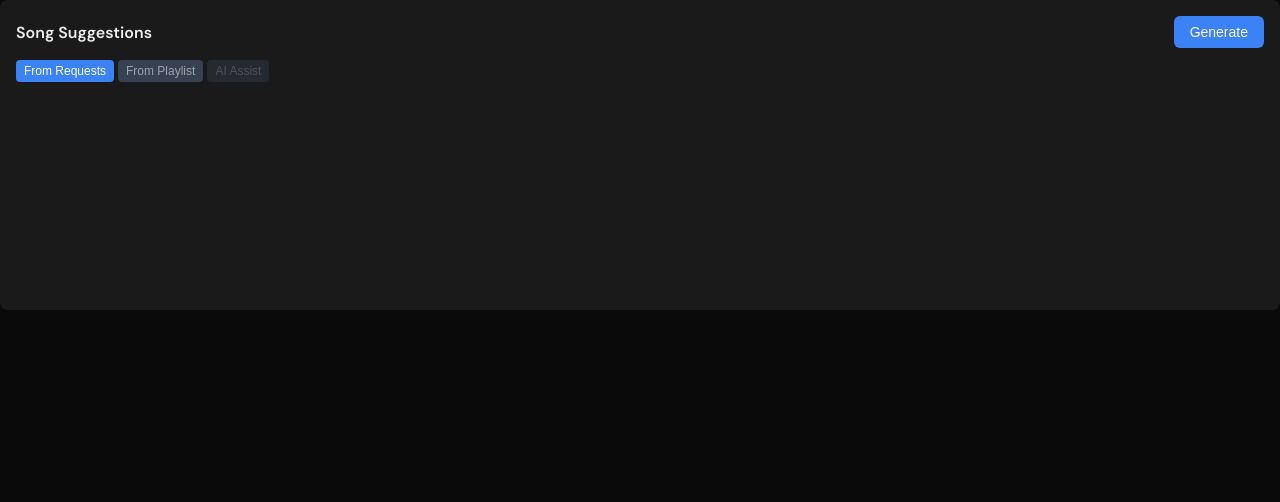
Test case: RecommendationsCard › shows AI reasoning toggle after LLM generation
The width and height of the screenshot is (1280, 502).
Get llm_available
Click the button "Generate" at point(1219, 32), box left=1174, top=16, right=1264, bottom=48
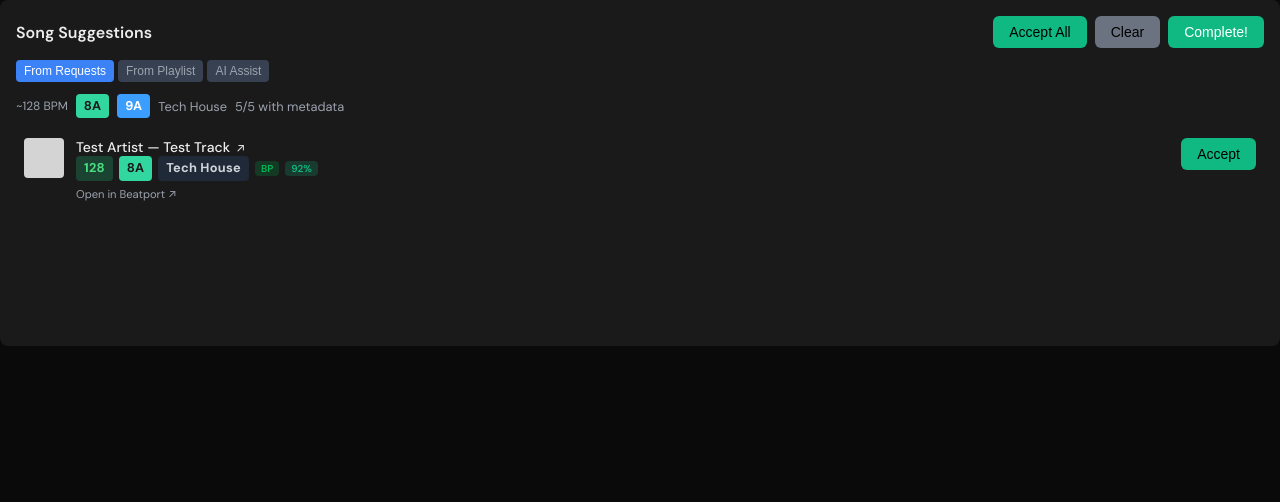
Switch to LLM mode and generate
Click the button "AI Assist" at point(238, 71), box left=207, top=60, right=269, bottom=82
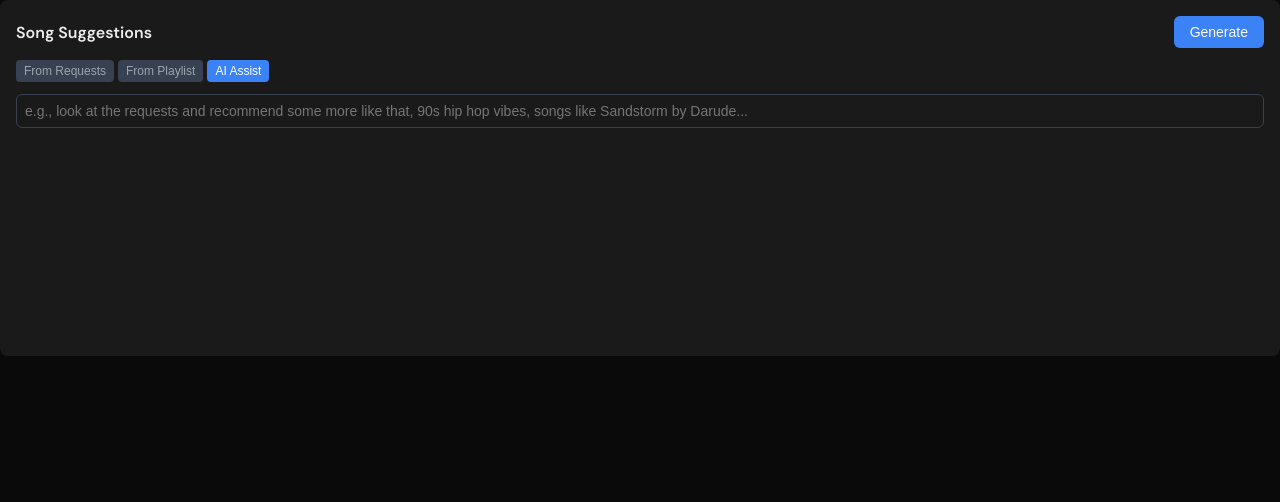
Replace the text in the field with placeholder "recommend some more" with "dark techno" at point(640, 111), box left=16, top=94, right=1264, bottom=128
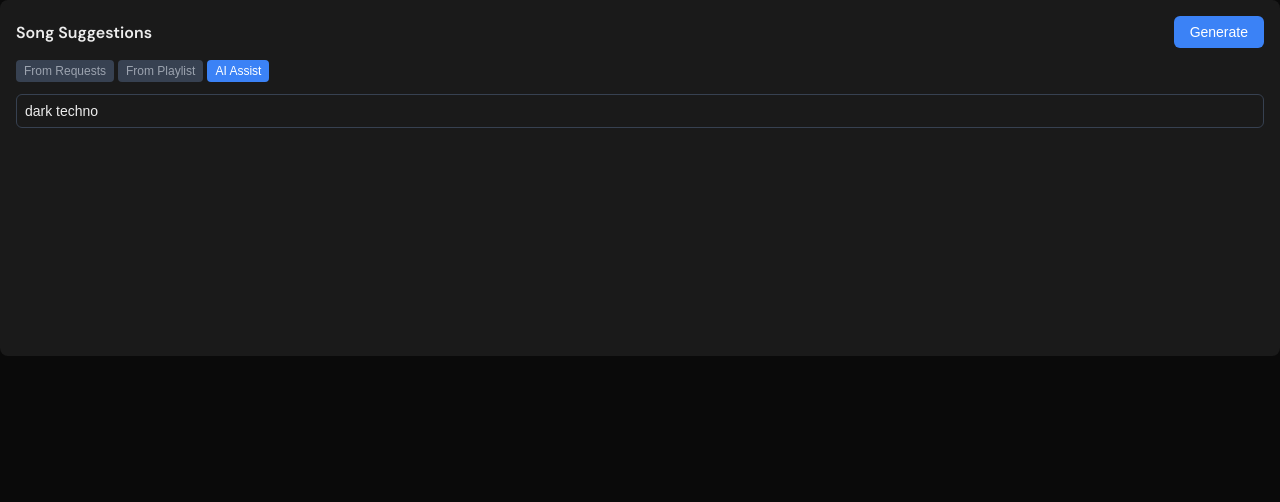
Click the button "Generate" at point(1219, 32), box left=1174, top=16, right=1264, bottom=48
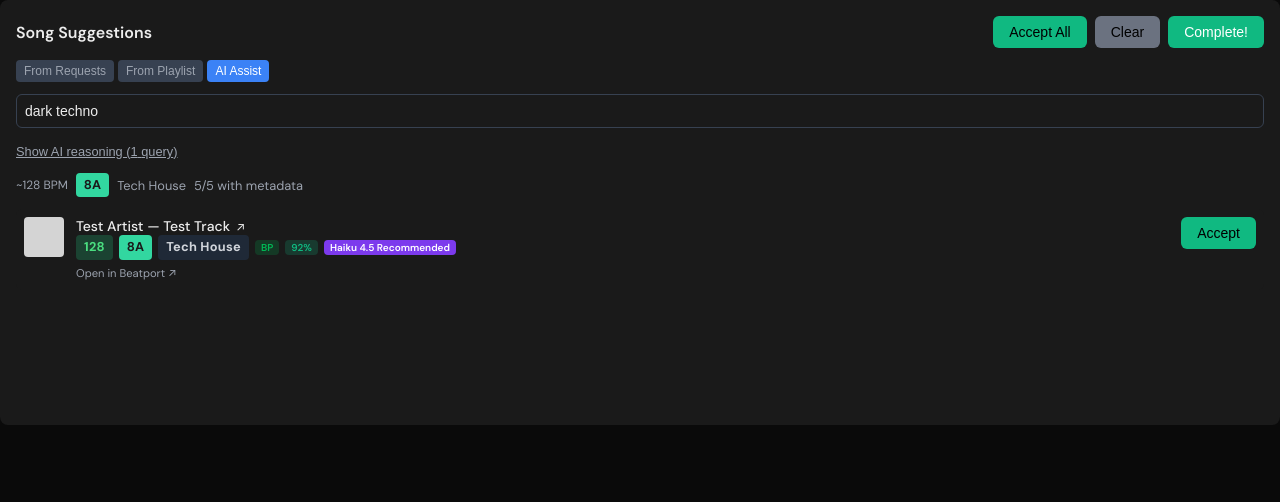
expect the button "Show AI reasoning (1 query)" is shown: met
Click to expand reasoning
Click the button "Show AI reasoning (1 query)" at point(97, 152), box left=16, top=144, right=178, bottom=159
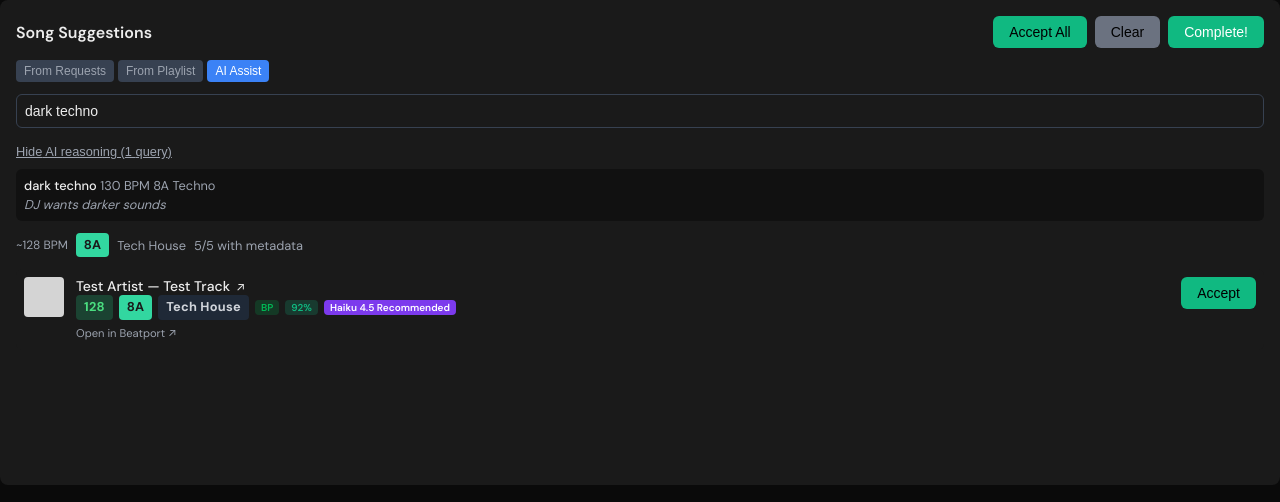
expect the text "dark techno" is shown: met, box left=24, top=177, right=97, bottom=194
expect the text "DJ wants darker sounds" is shown: met, box left=24, top=196, right=166, bottom=213
